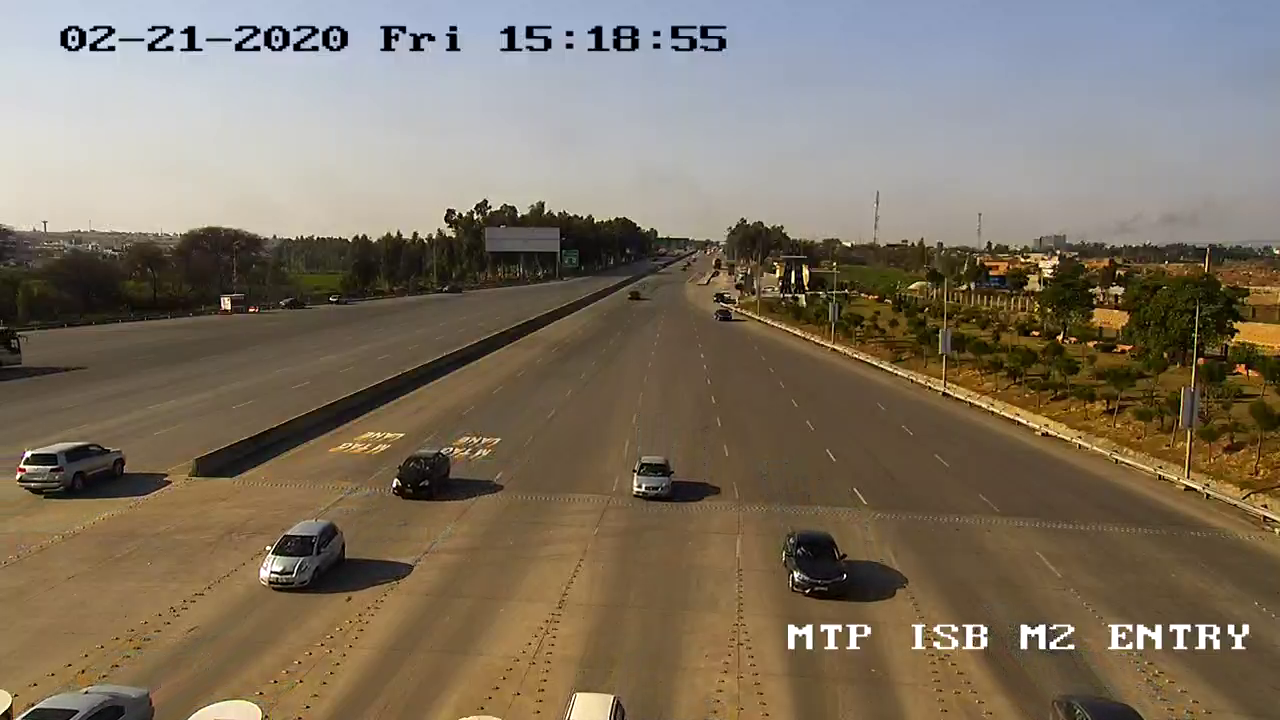f1: (252, 513, 350, 598), (773, 520, 856, 611), (384, 438, 455, 512), (622, 451, 683, 505)
